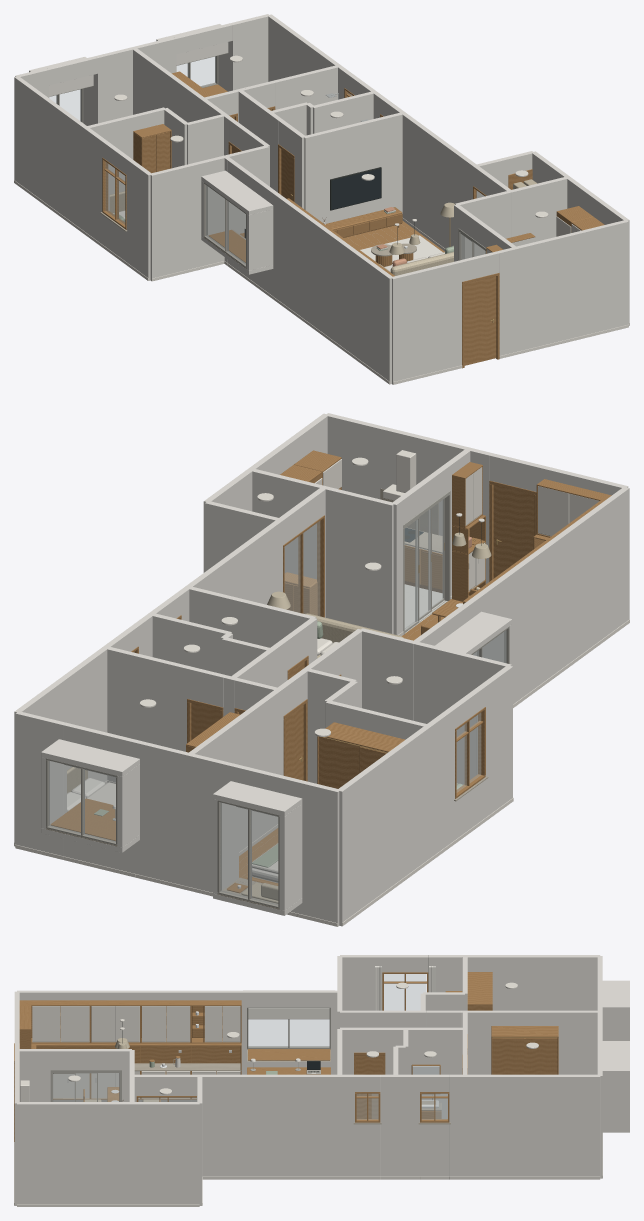
The model's file is huiyayuan-wood.glb.
3 views of the same model, one above another, from view 1: azimuth 30°, elevation 25°; view 2: azimuth 150°, elevation 25°; view 3: azimuth 270°, elevation 25° (orthographic). The views are drawn at different scales.
Visible parts, largest first — view 1: Wall 04 / pier.001, Wall 03 / pier.001, Wall 01 / pier, Wall 13 / pier, Wall 04 / pier, Wall 07 / pier.002, Wall 02 / pier, Wall 00 / pier.001, Wall 08 / pier, Wall 15 / pier, Wall 07 / pier, entry_door / oak door leaf (+42 smaller); view 2: Wall 03 / pier.001, Wall 01 / pier, Wall 00 / pier.001, Wall 16 / pier, Wall 04 / pier.001, Wall 10 / pier.002, Wall 02 / pier, Wall 08 / pier, Wall 00 / pier, Wall 00 / pier.002, Wall 07 / pier, Wall 07 / pier.002 (+57 smaller); view 3: Wall 05 / pier, Wall 07 / pier.002, Wall 07 / pier, Wall 01 / pier, Wall 08 / pier, Wall 07 / pier.001, Wall 11 / pier, Wall 03 / pier.001, Wall 01 / pier.001, Wall 07 / sill, Wall 17 / lintel, Wall 17 / pier.001 (+54 smaller).
Boxes of the visible parts, bbox=[...] form: Wall 04 / pier.001: bbox=[497, 220, 628, 355]; Wall 03 / pier.001: bbox=[271, 191, 393, 384]; Wall 01 / pier: bbox=[14, 76, 106, 244]; Wall 13 / pier: bbox=[304, 112, 402, 223]; Wall 04 / pier: bbox=[391, 260, 461, 384]; Wall 07 / pier.002: bbox=[393, 107, 476, 248]; Wall 02 / pier: bbox=[150, 155, 226, 281]; Wall 00 / pier.001: bbox=[95, 37, 176, 123]; Wall 08 / pier: bbox=[132, 48, 206, 122]; Wall 15 / pier: bbox=[511, 177, 567, 246]; Wall 07 / pier: bbox=[268, 14, 348, 99]; entry_door / oak door leaf: bbox=[464, 276, 496, 365]; Wall 03 / pier.001: bbox=[473, 487, 629, 704]; Wall 01 / pier: bbox=[339, 708, 454, 926]; Wall 00 / pier.001: bbox=[135, 740, 238, 892]; Wall 16 / pier: bbox=[323, 486, 394, 634]; Wall 04 / pier.001: bbox=[325, 413, 492, 583]; Wall 10 / pier.002: bbox=[107, 647, 190, 782]; Wall 02 / pier: bbox=[413, 641, 511, 784]; Wall 08 / pier: bbox=[188, 687, 283, 851]; Wall 00 / pier: bbox=[297, 780, 340, 926]; Wall 00 / pier.002: bbox=[15, 711, 66, 856]; Wall 07 / pier: bbox=[14, 639, 118, 846]; Wall 07 / pier.002: bbox=[175, 519, 282, 621]; Wall 05 / pier: bbox=[17, 1102, 199, 1203]; Wall 07 / pier.002: bbox=[199, 1074, 354, 1176]; Wall 07 / pier: bbox=[449, 1074, 600, 1176]; Wall 01 / pier: bbox=[428, 955, 600, 1010]; Wall 08 / pier: bbox=[462, 1010, 599, 1074]; Wall 07 / pier.001: bbox=[380, 1074, 419, 1176]; Wall 11 / pier: bbox=[385, 1027, 464, 1118]; Wall 03 / pier.001: bbox=[17, 990, 246, 1074]; Wall 01 / pier.001: bbox=[340, 955, 382, 1010]; Wall 07 / sill: bbox=[420, 1124, 449, 1176]; Wall 17 / lintel: bbox=[50, 1049, 121, 1070]; Wall 17 / pier.001: bbox=[17, 1049, 50, 1101].
Size of the model in its own units: 8.46 by 2.71 by 14.67.
Materials: 23 (4 with a texture image).
